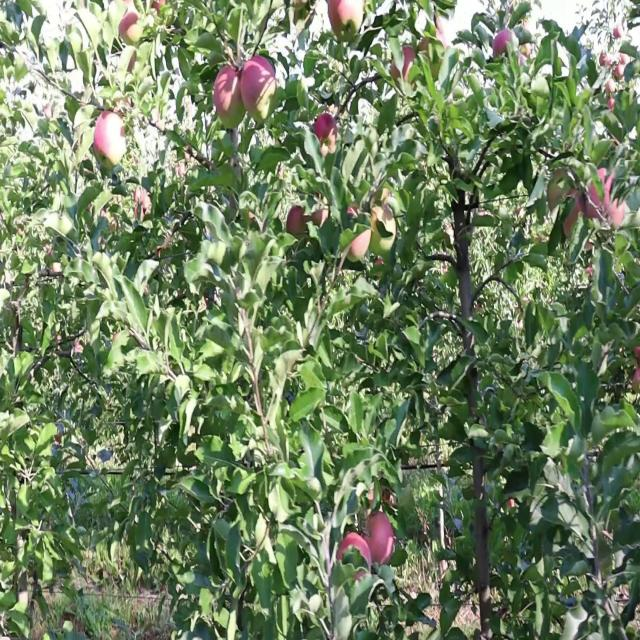apple: (240, 56, 276, 116), (588, 170, 624, 228), (596, 170, 627, 228), (368, 511, 396, 567), (340, 533, 372, 581), (328, 1, 364, 43), (216, 71, 243, 126), (96, 113, 120, 169), (348, 206, 371, 261), (420, 21, 448, 62), (588, 170, 615, 210), (328, 1, 355, 41), (392, 42, 416, 84), (316, 113, 339, 153), (368, 199, 394, 233), (564, 191, 583, 236), (428, 21, 448, 62), (372, 206, 396, 240), (348, 227, 371, 261), (120, 7, 140, 41), (312, 191, 330, 228), (608, 193, 627, 228), (288, 206, 308, 238), (568, 191, 583, 233), (116, 99, 133, 135), (492, 28, 512, 57), (368, 483, 391, 508), (136, 191, 152, 222), (564, 206, 580, 236), (588, 191, 602, 220), (632, 369, 640, 391), (152, 7, 164, 16), (632, 348, 640, 361)
